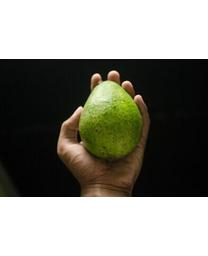avocado: (78, 80, 144, 160)
